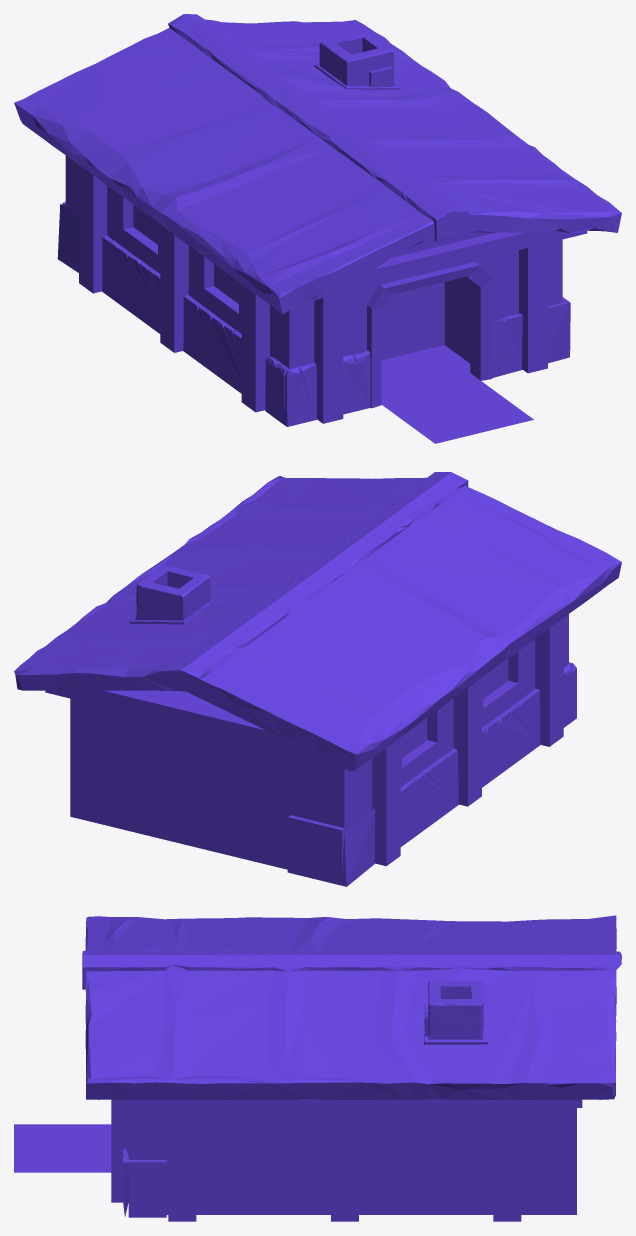
Rendered from House_1.fbx.
3 views of the same model, one above another, from view 1: azimuth 30°, elevation 25°; view 2: azimuth 150°, elevation 25°; view 3: azimuth 270°, elevation 25° (orthographic).
Parts seen in each view (by area): view 1: Cube.039, Cube.031, Cube.050, Cube.037, Cube.032, Cube.053, Cube.034, Cube.033, Cube.035, Cube.036, Cube.038, Cube.045; view 2: Cube.039, Cube.031, Cube.050, Cube.053, Cube.054, Cube.038, Cube.035, Cube.036; view 3: Cube.039, Cube.031, Cube.037, Cube.053, Cube.046, Cube.048, Cube.047, Cube.051, Cube.033.
Part boxes in pixels (x1,y1,x2,y2): Cube.039: (14, 14, 621, 314); Cube.031: (65, 155, 587, 368); Cube.050: (57, 203, 570, 426); Cube.037: (381, 345, 533, 443); Cube.032: (367, 262, 492, 408); Cube.053: (314, 31, 400, 89); Cube.034: (314, 293, 343, 423); Cube.033: (519, 243, 547, 373); Cube.035: (241, 284, 269, 412); Cube.036: (160, 224, 188, 352); Cube.038: (79, 165, 107, 293); Cube.045: (392, 232, 494, 257); Cube.039: (14, 472, 621, 771); Cube.031: (45, 614, 568, 869); Cube.050: (342, 662, 576, 886); Cube.053: (129, 565, 215, 624); Cube.054: (287, 815, 344, 885); Cube.038: (372, 737, 400, 866); Cube.035: (535, 618, 563, 746); Cube.036: (453, 678, 481, 806); Cube.039: (82, 915, 621, 1099); Cube.031: (129, 1099, 576, 1214); Cube.037: (14, 1124, 111, 1172); Cube.053: (424, 981, 487, 1044); Cube.046: (168, 1100, 196, 1221); Cube.048: (493, 1100, 521, 1221); Cube.047: (331, 1100, 358, 1221); Cube.051: (128, 1160, 166, 1217); Cube.033: (111, 1099, 128, 1202).
Bounding box in the file's own units: 762 × 426 × 1161.
